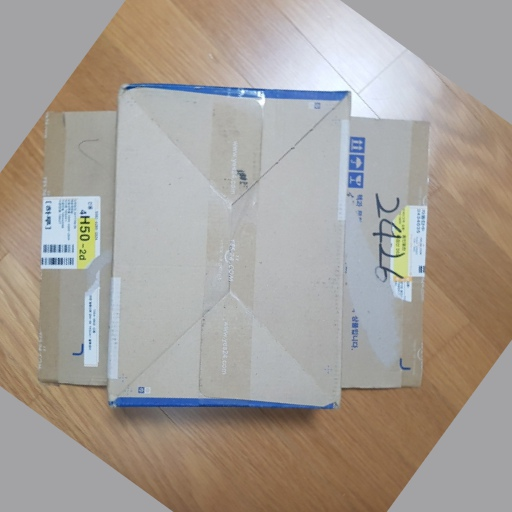Paper_0: (35, 78, 431, 415)
